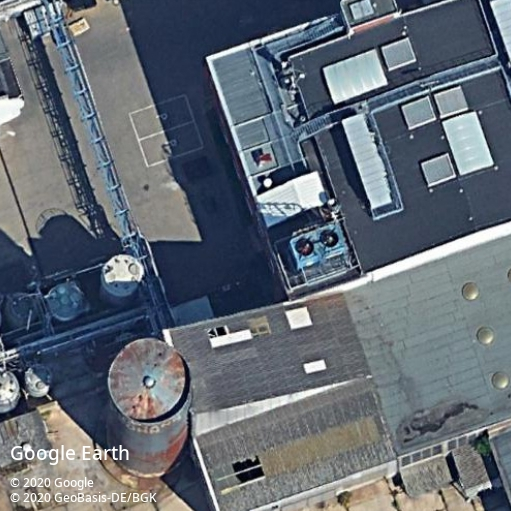Vent: (319, 229, 338, 247), (295, 237, 313, 255)
